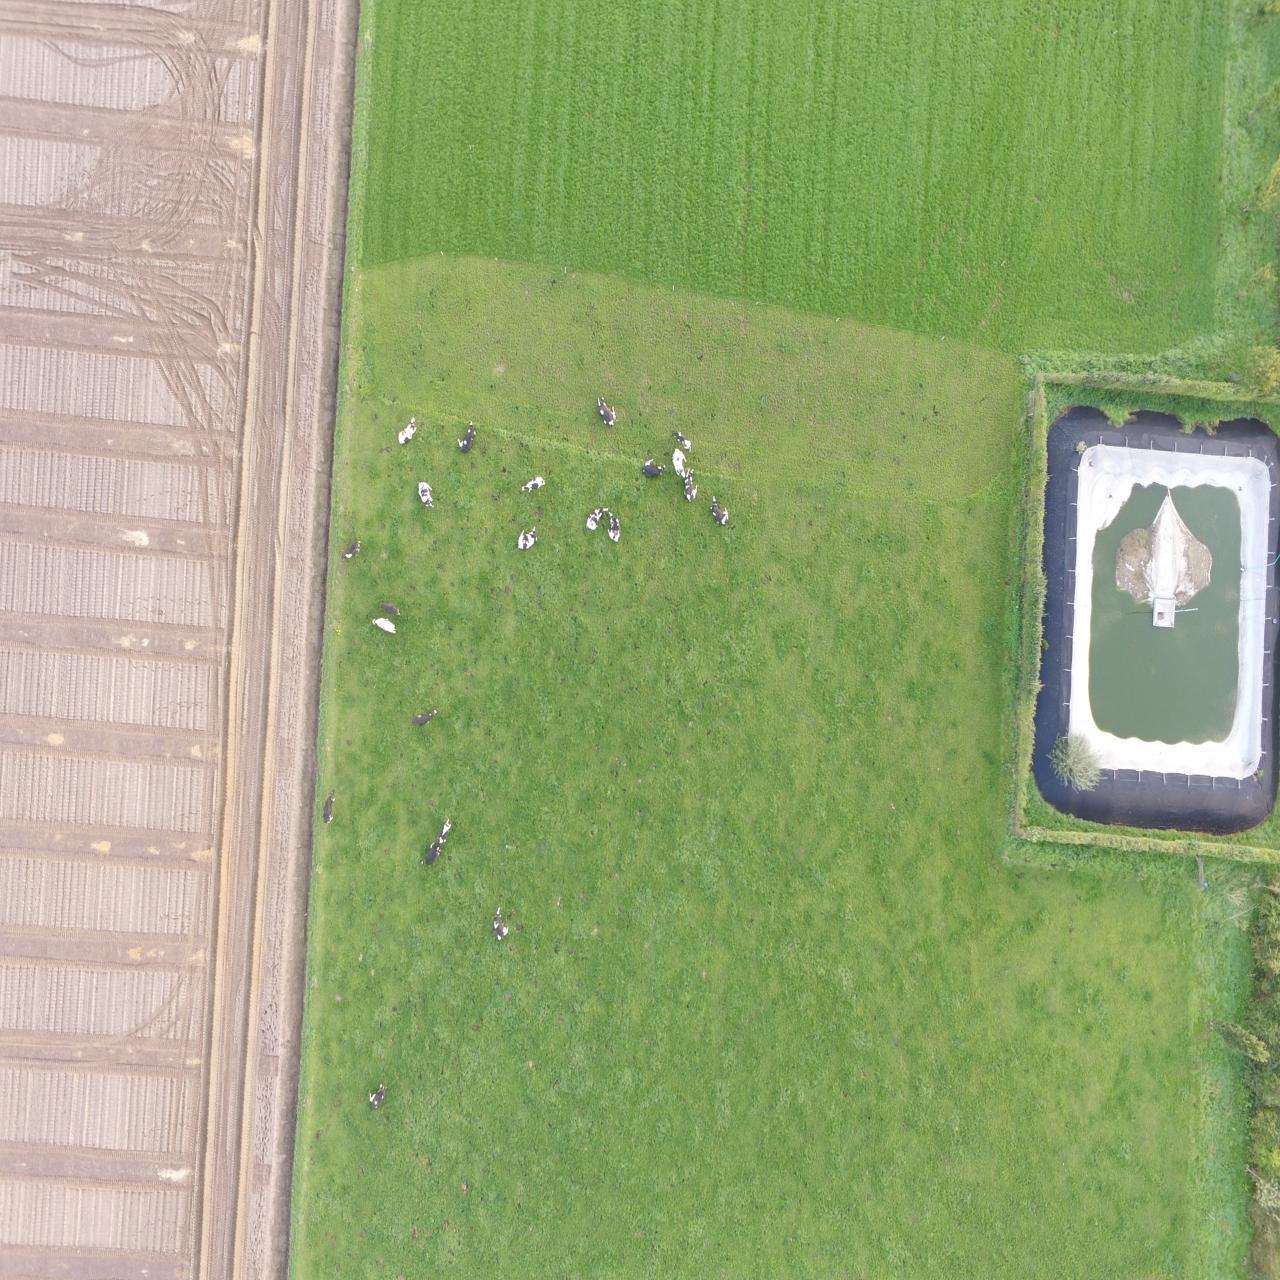cow: (591, 393, 618, 430), (394, 413, 418, 447), (584, 502, 611, 531), (709, 493, 730, 526), (456, 418, 476, 452), (367, 1080, 387, 1112), (490, 906, 509, 940), (515, 525, 538, 552), (682, 468, 699, 504), (668, 448, 687, 478), (639, 458, 667, 478), (322, 785, 335, 828), (410, 707, 438, 726), (669, 429, 693, 451), (374, 598, 406, 614), (339, 537, 359, 563), (608, 509, 621, 546), (437, 816, 454, 845), (421, 839, 441, 863), (416, 476, 431, 506), (519, 477, 549, 491), (370, 618, 400, 631)
